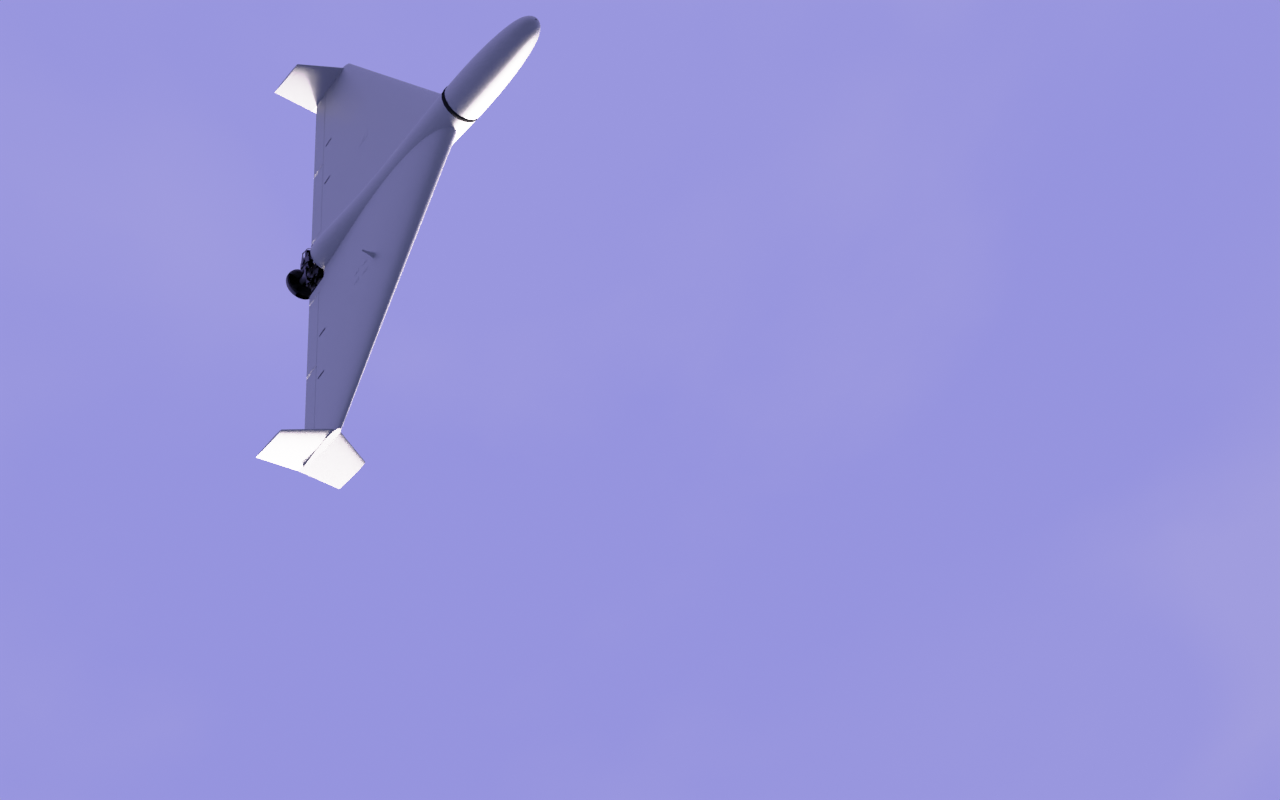shahed: (256, 16, 542, 491)
